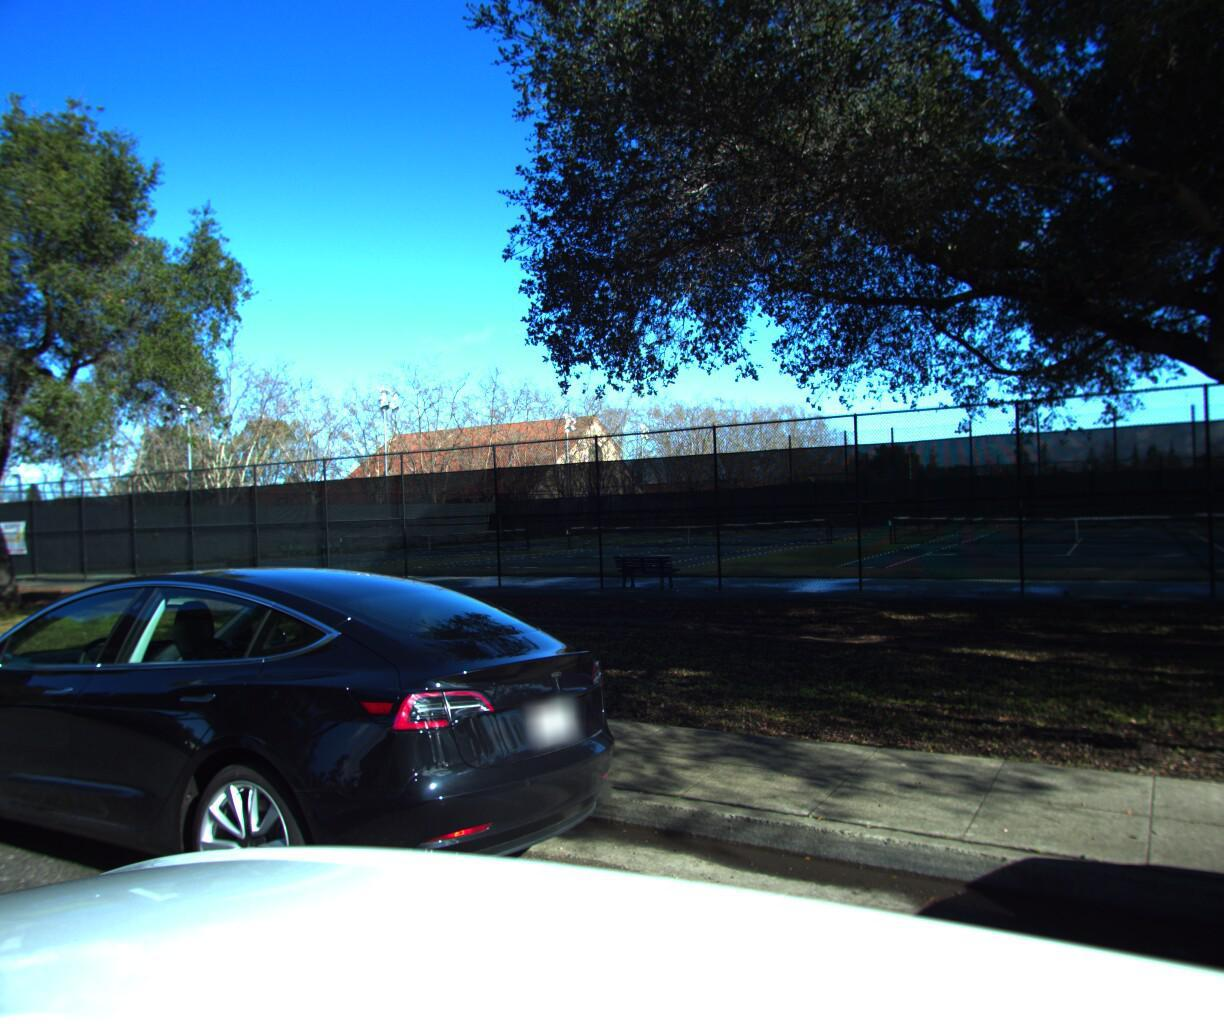car: (0, 552, 662, 1024), (0, 550, 23, 780)
